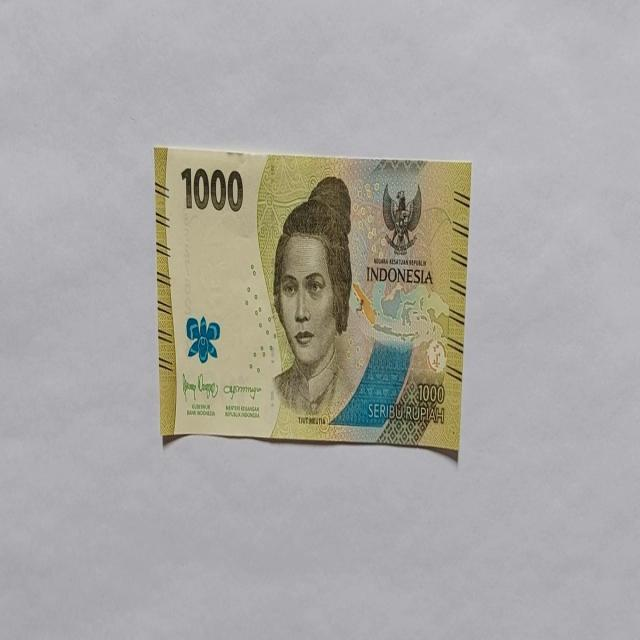seribu rupiah kertas: (154, 145, 472, 458)
